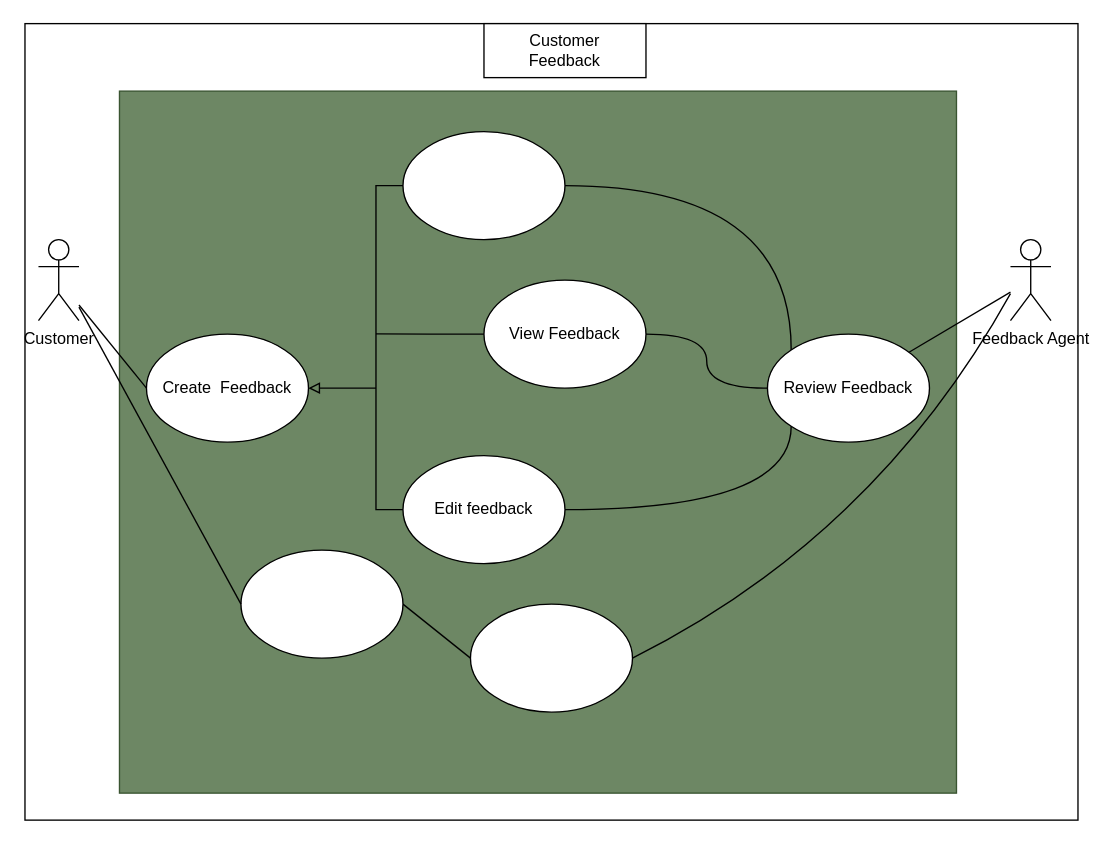
This 1112x844 diagram has some shape labels left out. The centre of each missing label's shape, as x and y in pixels:
"Review response" goes at (321,603).
"Send response" goes at (550,657).
"Submit feedback" goes at (483,185).
